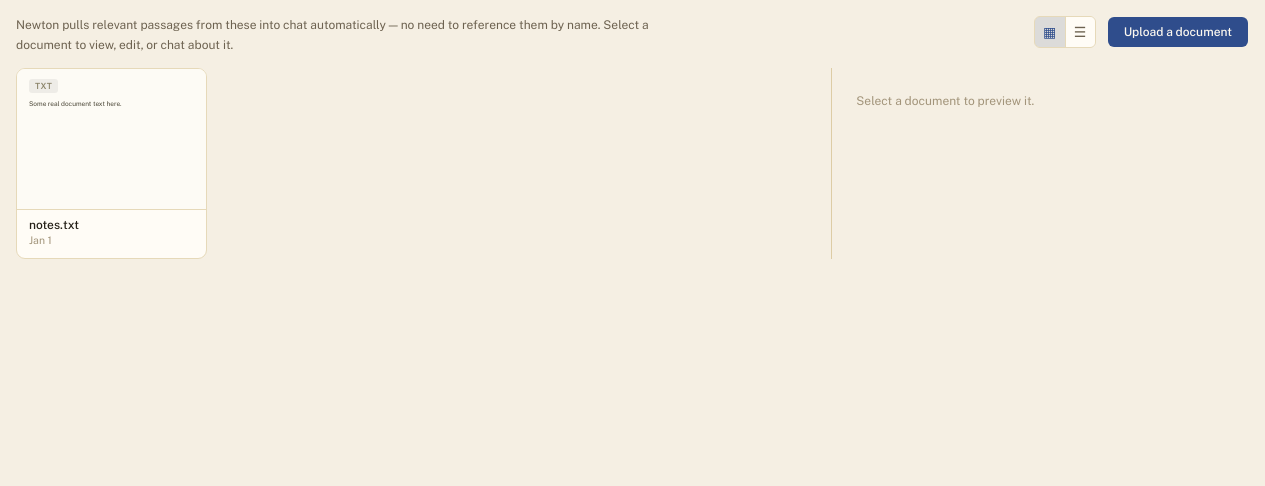
Test case: DocumentsPanel › shows an error banner instead of a popover when document annotation fails
Click the button named "List view". click: (1080, 32)
box: top-left (1065, 17), bottom-right (1095, 47)
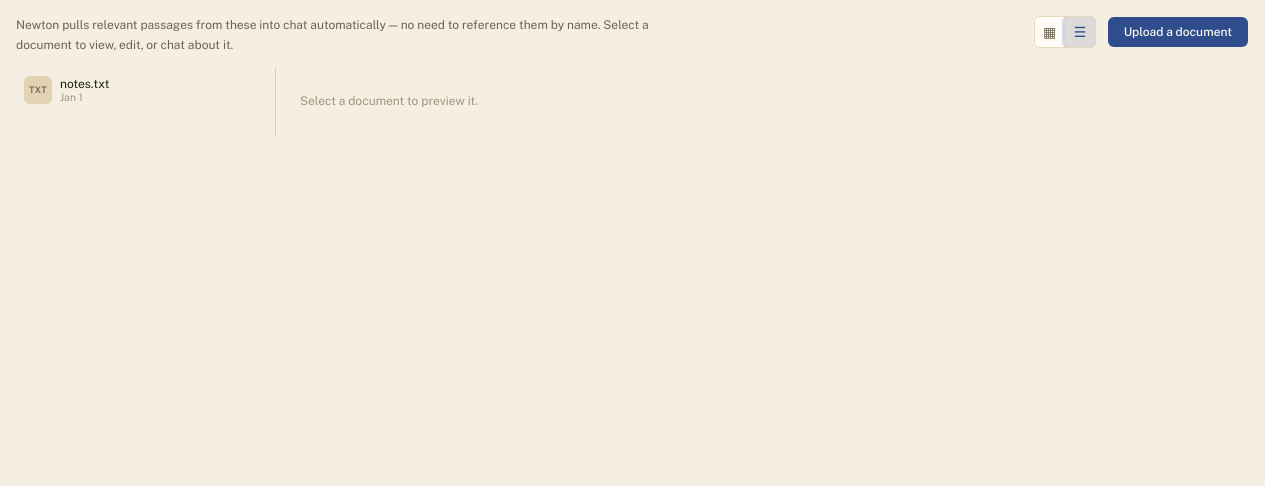
Click the text "notes.txt". click: (85, 84)
box: top-left (60, 77), bottom-right (109, 91)
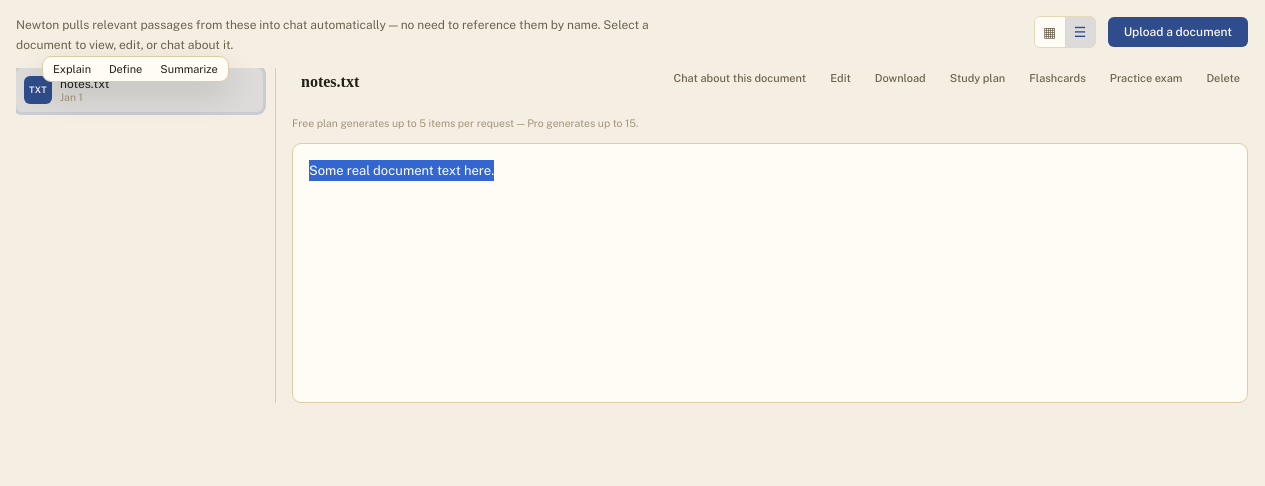
Click the button "Define". click: (126, 69)
box: top-left (101, 59), bottom-right (150, 79)
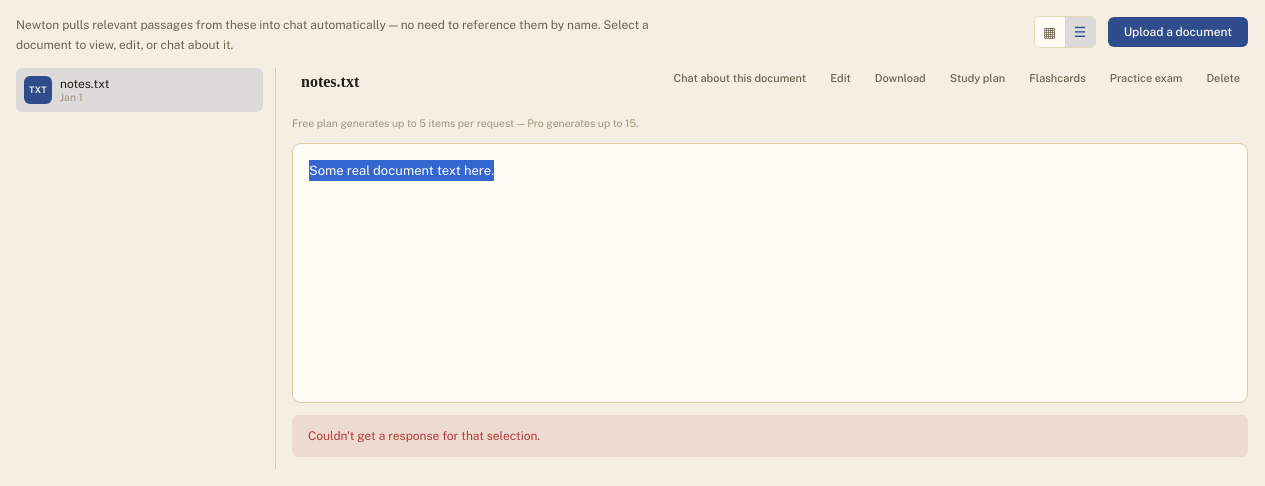
Expected: the text "Couldn't get a response for that selection." is shown, top-left (292, 415), bottom-right (1248, 457)
